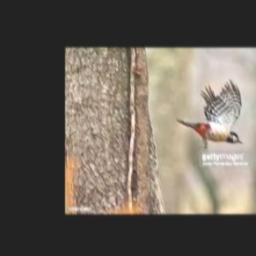Woodpecker: (176, 79, 243, 149)
